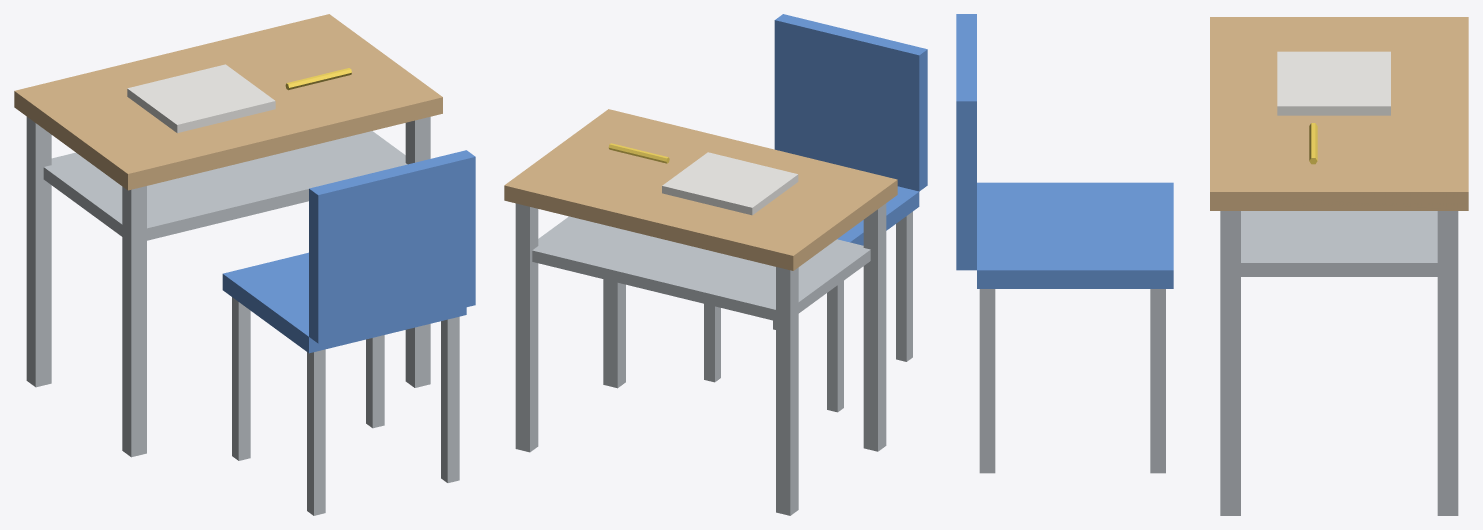
The model's file is classroom_desk.glb.
The picture shows the model from 3 angles, left to right: view 1: azimuth 30°, elevation 25°; view 2: azimuth 150°, elevation 25°; view 3: azimuth 270°, elevation 25°; orthographic projection. The views are drawn at different scales.
Parts seen in each view (by area): view 1: classroom_desk; view 2: classroom_desk; view 3: classroom_desk.
Part boxes in pixels (x1,y1,x2,y2): classroom_desk: (14,14,475,515); classroom_desk: (504,14,927,515); classroom_desk: (956,14,1468,515).
Bounding box in the file's own units: 0.8 × 0.8 × 0.99.
